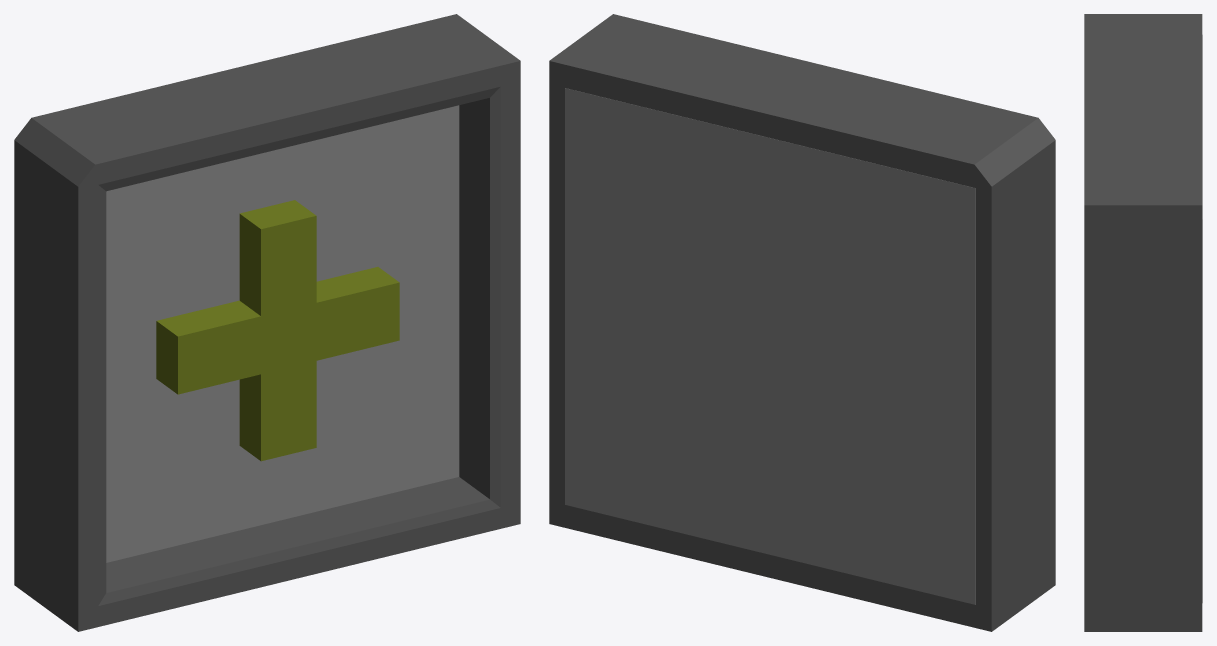
File: buttons_plus.glb
3 renders of one model, left to right at view 1: azimuth 30°, elevation 25°; view 2: azimuth 150°, elevation 25°; view 3: azimuth 270°, elevation 25°, orthographic. The views are drawn at different scales.
Parts seen in each view (by area): view 1: Cube.002, Cube.007; view 2: Cube.007, Cube.002; view 3: Cube.002, Cube.007.
Part boxes in pixels (x1,y1,x2,y2): Cube.002: (14, 14, 520, 631); Cube.007: (106, 105, 459, 562); Cube.007: (565, 88, 975, 604); Cube.002: (549, 14, 1055, 631); Cube.002: (1084, 14, 1202, 631); Cube.007: (1202, 35, 1202, 602).
Size of the model in its own units: 3.99 by 3.99 by 1.
